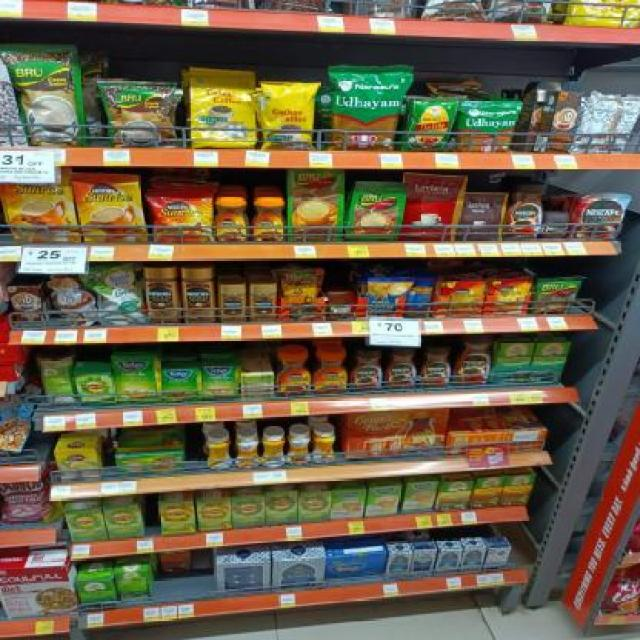Coffee: (4, 171, 78, 243), (76, 173, 142, 242), (151, 193, 211, 240), (506, 180, 546, 238), (144, 267, 179, 324), (580, 194, 625, 238), (456, 334, 493, 386), (184, 268, 216, 324), (213, 197, 249, 240), (314, 354, 351, 394), (250, 198, 284, 240), (277, 356, 312, 396), (420, 347, 454, 387), (387, 350, 421, 387), (352, 354, 385, 391), (249, 284, 276, 324), (219, 284, 247, 322), (544, 215, 570, 239)
